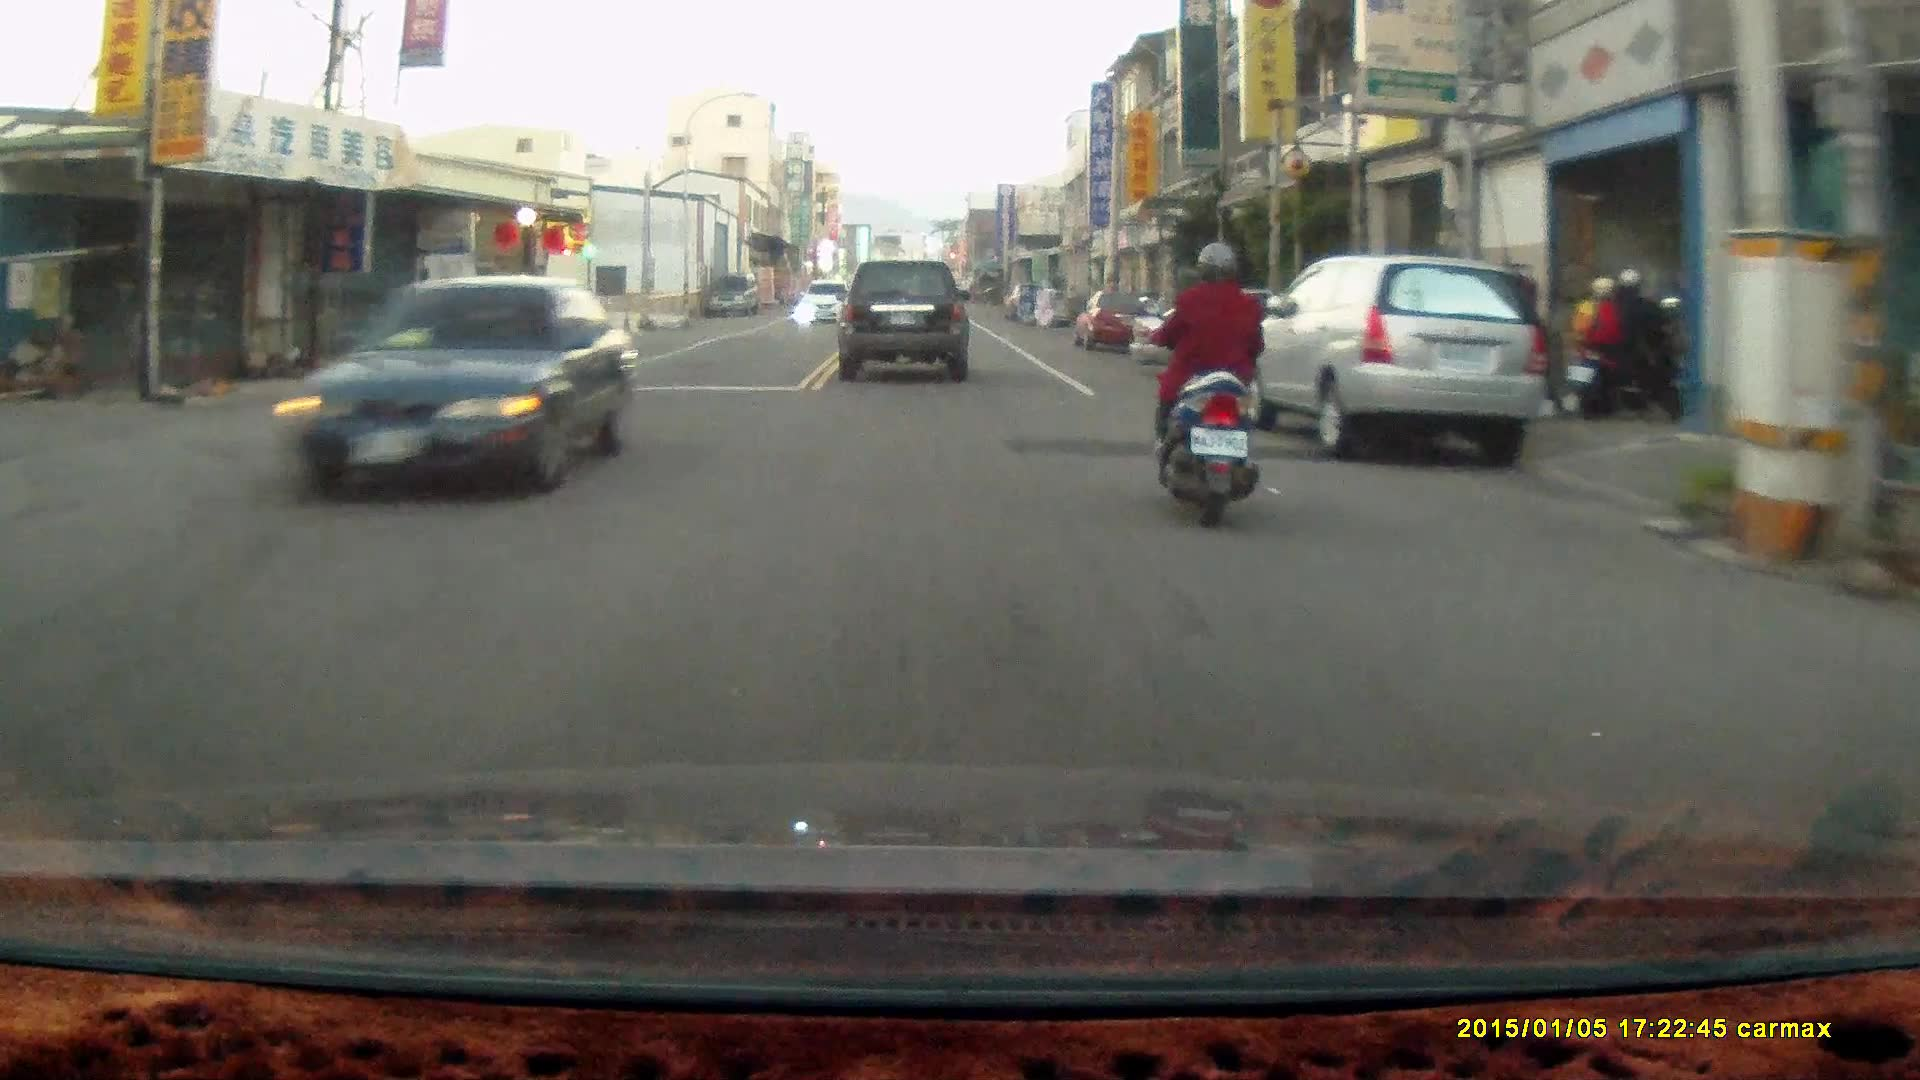rider: (1141, 242, 1262, 533), (1568, 261, 1680, 421)
vehicle: (285, 275, 634, 502), (1243, 256, 1544, 459), (837, 259, 972, 386), (1075, 290, 1153, 354), (795, 277, 849, 327)
